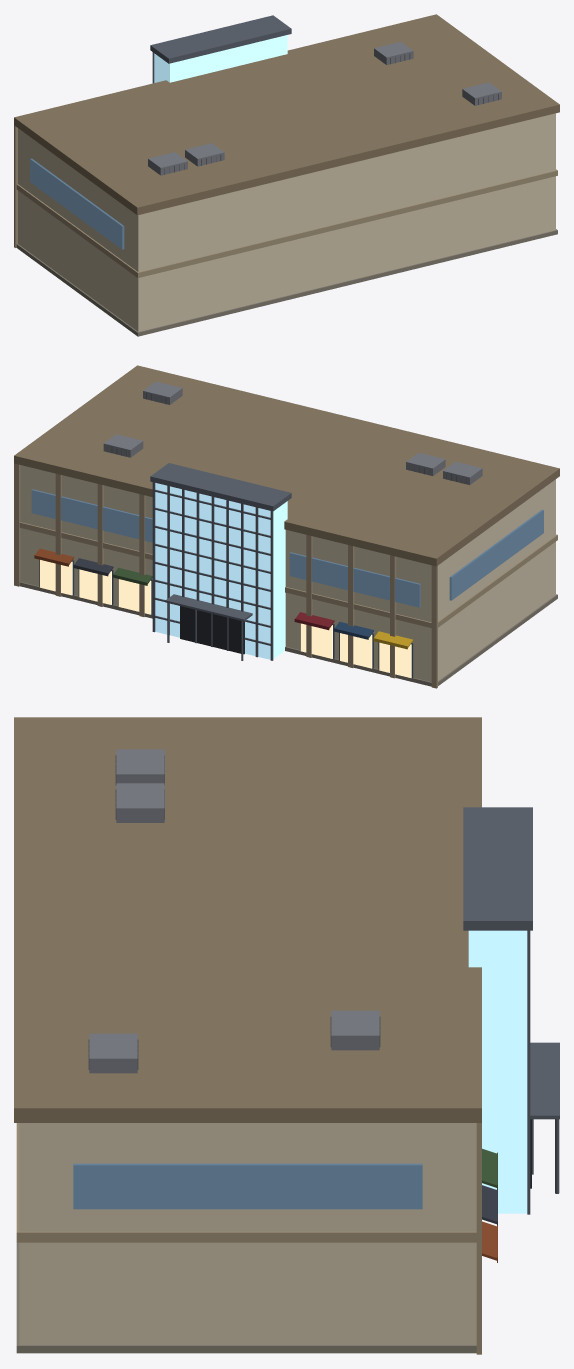
Rendered from mall.glb.
The picture shows the model from 3 angles, top to bottom: view 1: azimuth 30°, elevation 25°; view 2: azimuth 150°, elevation 25°; view 3: azimuth 270°, elevation 25°; orthographic projection. The views are drawn at different scales.
Parts seen in each view (by area): view 1: part-mall-wall, part-cornice, part-band, part-frame, part-plinth, part-atrium-glass, part-plant, part-upper-glass; view 2: part-cornice, part-mall-wall, part-atrium-glass, part-frame, part-band, part-upper-glass, part-shop-glass, part-plant, part-door-glass, part-plinth, part-awning-4, part-awning-0 (+4 smaller); view 3: part-cornice, part-mall-wall, part-upper-glass, part-atrium-glass, part-frame, part-plant, part-band, part-plinth.
Boxes of the visible parts, x1,y1,x2,y2 form: part-mall-wall: (18,113,555,331); part-cornice: (14,14,559,215); part-band: (14,125,557,277); part-frame: (150,15,291,83); part-plinth: (16,229,557,336); part-atrium-glass: (154,35,287,82); part-plant: (148,41,501,175); part-upper-glass: (30,158,124,249); part-cornice: (14,365,559,566); part-mall-wall: (20,465,555,681); part-atrium-glass: (155,483,287,659); part-frame: (39,463,413,677); part-band: (14,463,557,688); part-upper-glass: (31,489,543,607); part-shop-glass: (40,560,411,677); part-plant: (103,381,482,484); part-door-glass: (180,606,244,654); part-plinth: (19,582,557,686); part-awning-4: (73,558,113,576); part-awning-0: (294,612,334,630); part-cornice: (14,717,481,1122); part-mall-wall: (19,1123,476,1344); part-upper-glass: (73,1163,422,1209); part-atrium-glass: (468,930,527,1213); part-frame: (463,807,559,1214); part-plant: (89,749,379,1073); part-band: (16,1123,481,1354); part-plinth: (16,1242,476,1353).
Size of the model in its own units: 344 by 121 by 203.
